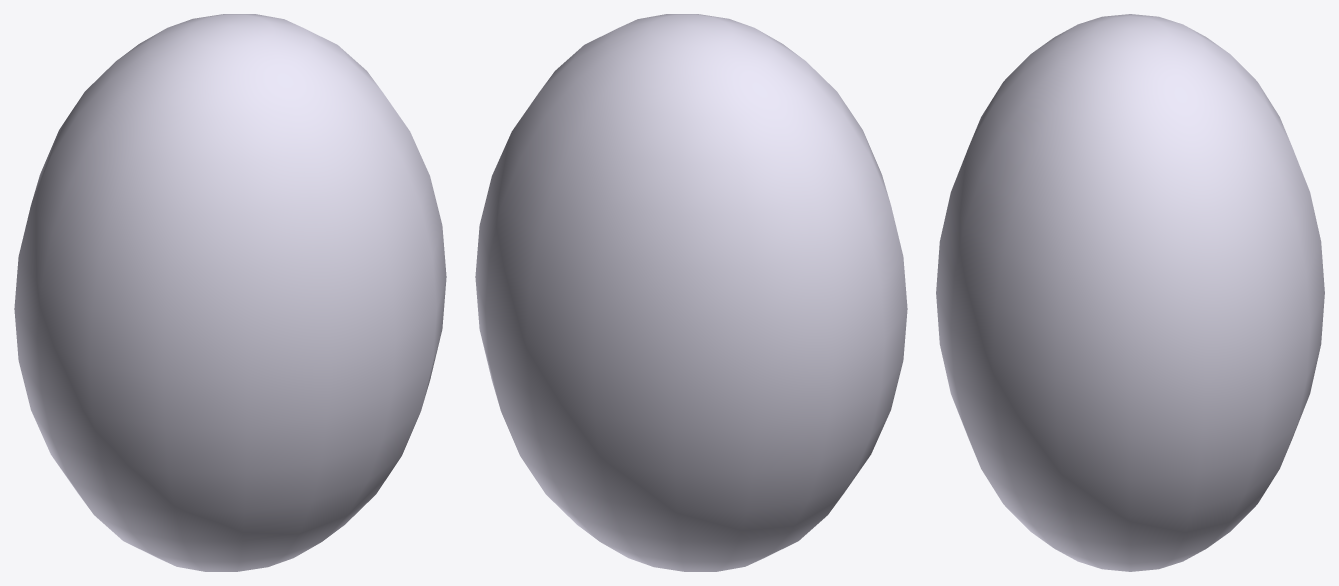
File: Eggs.obj
3 views of the same model, side by side, from view 1: azimuth 30°, elevation 25°; view 2: azimuth 150°, elevation 25°; view 3: azimuth 270°, elevation 25° (orthographic).
Parts seen in each view (by area): view 1: Eggs.obj; view 2: Eggs.obj; view 3: Eggs.obj.
Boxes of the visible parts, x1=… form: Eggs.obj: x1=14, y1=14, x2=446, y2=571; Eggs.obj: x1=475, y1=14, x2=907, y2=571; Eggs.obj: x1=936, y1=14, x2=1324, y2=571.
Size of the model in its own units: 4.14 by 5.47 by 3.66.
